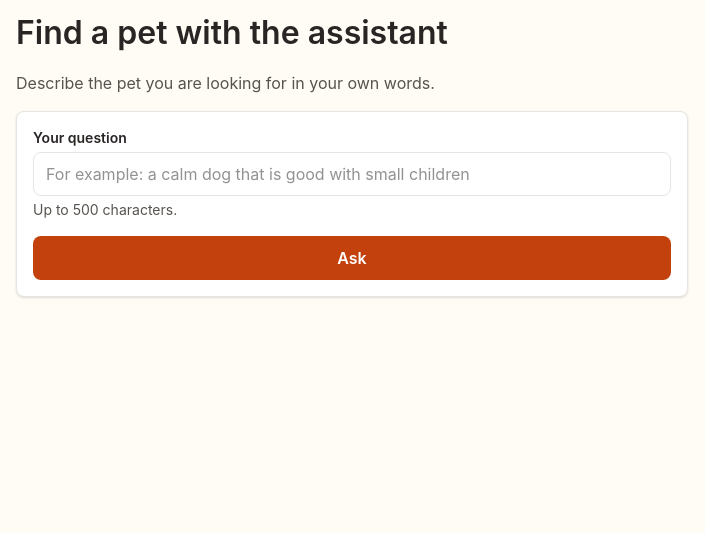
Test case: AssistantPage › shows a spinner and disables the Ask button while waiting for the answer
Later steps or results of the test are not shown.
Type "a calm dog" into the field labelled "Your question" at (352,174), box [33,152,671,196]
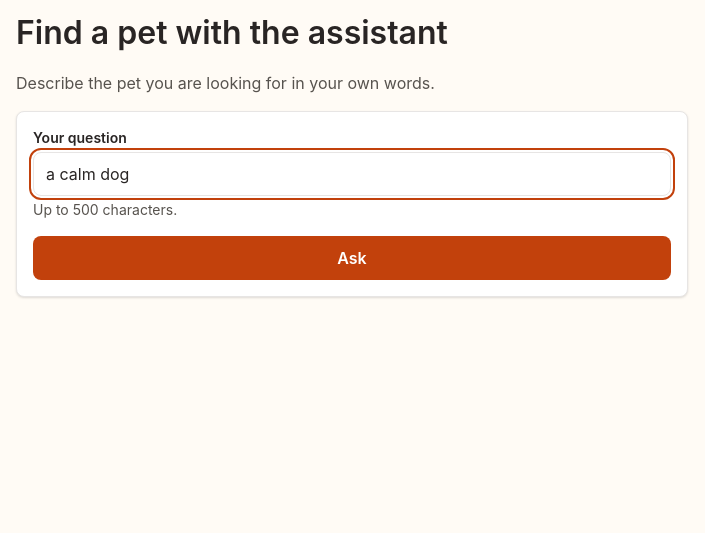
Click the button "Ask" at (352,258), box [33,236,671,280]
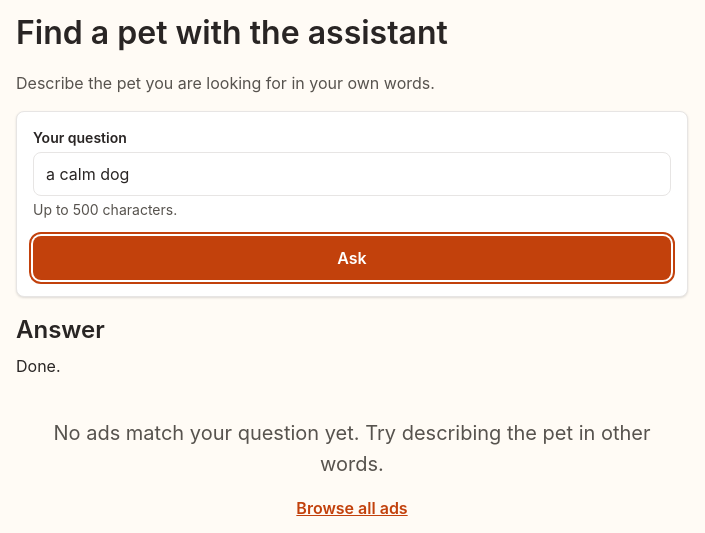
Now the text "Done." is shown, box [16,356,60,376]
